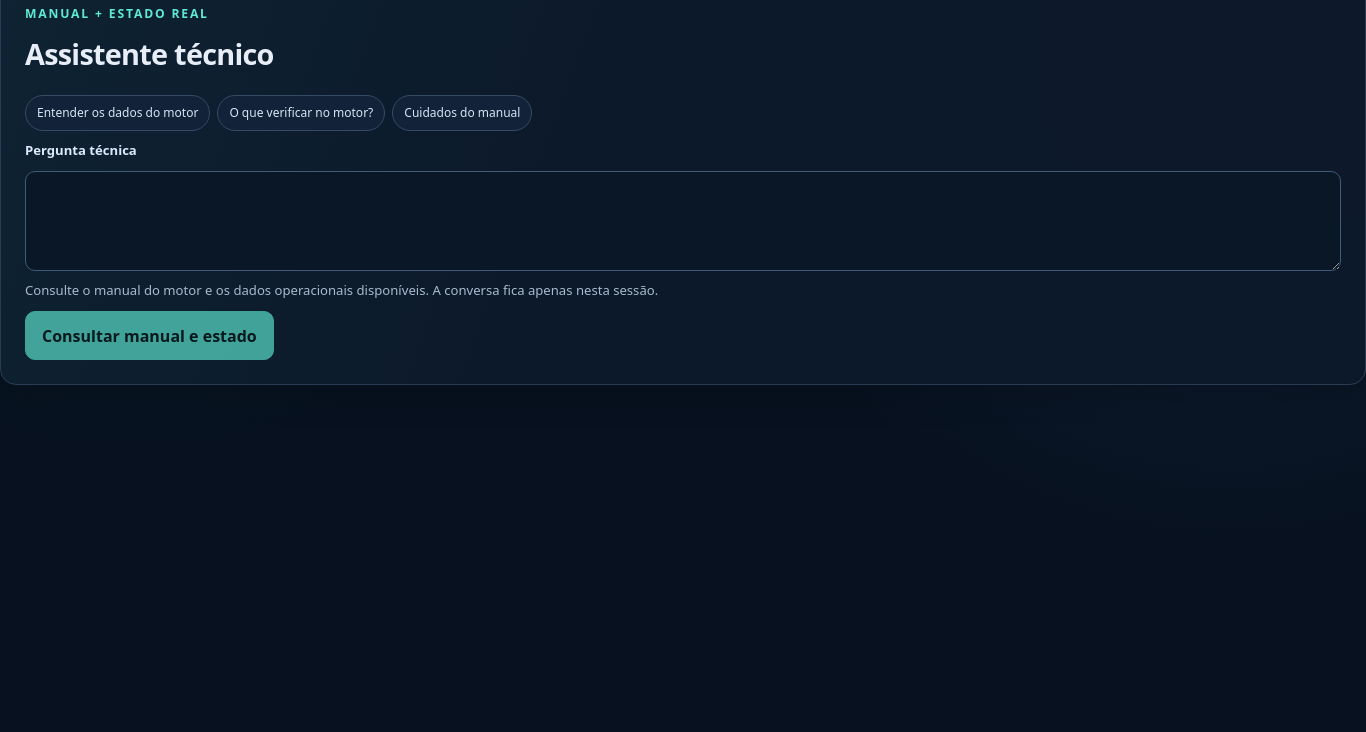
Test case: TechnicalAssistantPanel explicit safety states › renders manual_insufficient as a first-class state
Type "Explique o estado" into the text box labelled "Pergunta técnica" at [683, 221], box [25,171,1341,271]
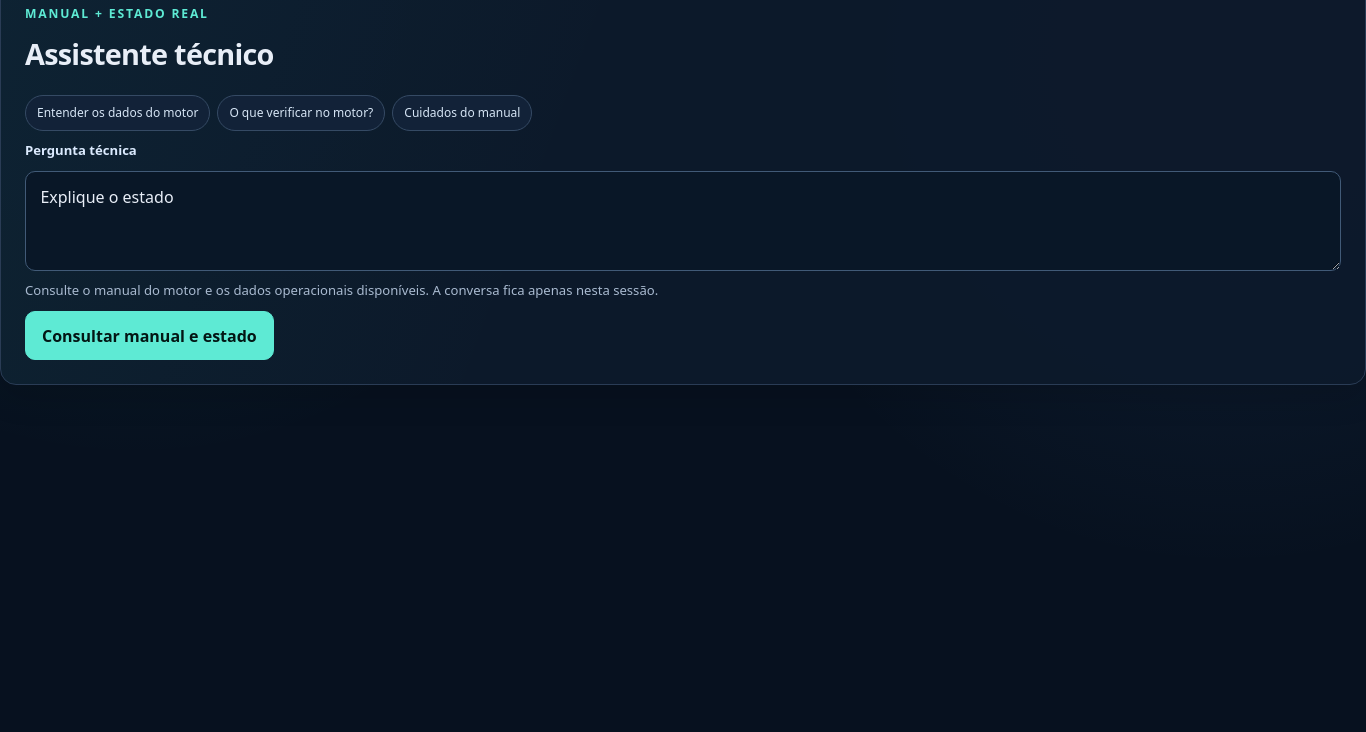
Submit the form named "Consultar o assistente técnico", box [25,141,1341,360]
(page scrolled)
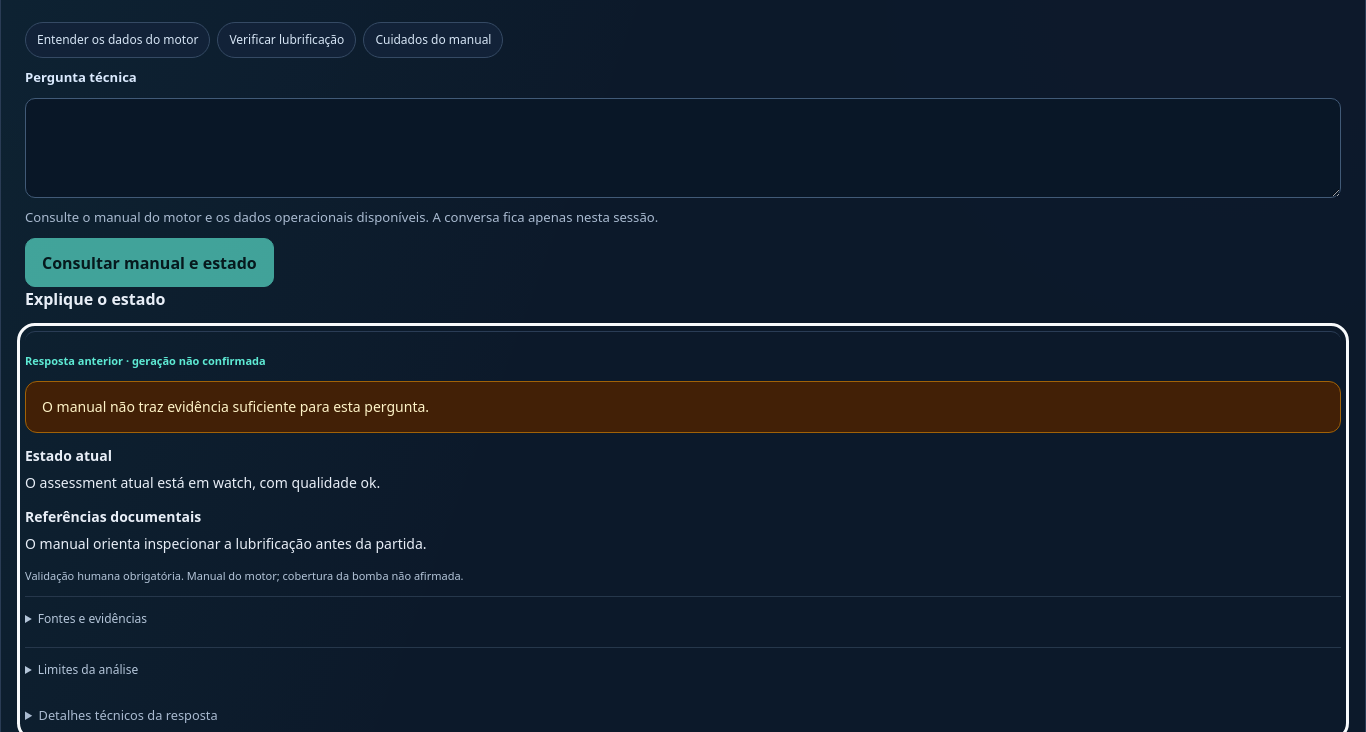
Expected: the text "O manual não traz evidência suficiente para esta pergunta." is shown, [25,381,1341,433]
Expected: the heading "Referências documentais" is shown, [25,507,201,526]
Expected: the heading "Estado atual" is shown, [25,446,112,465]
